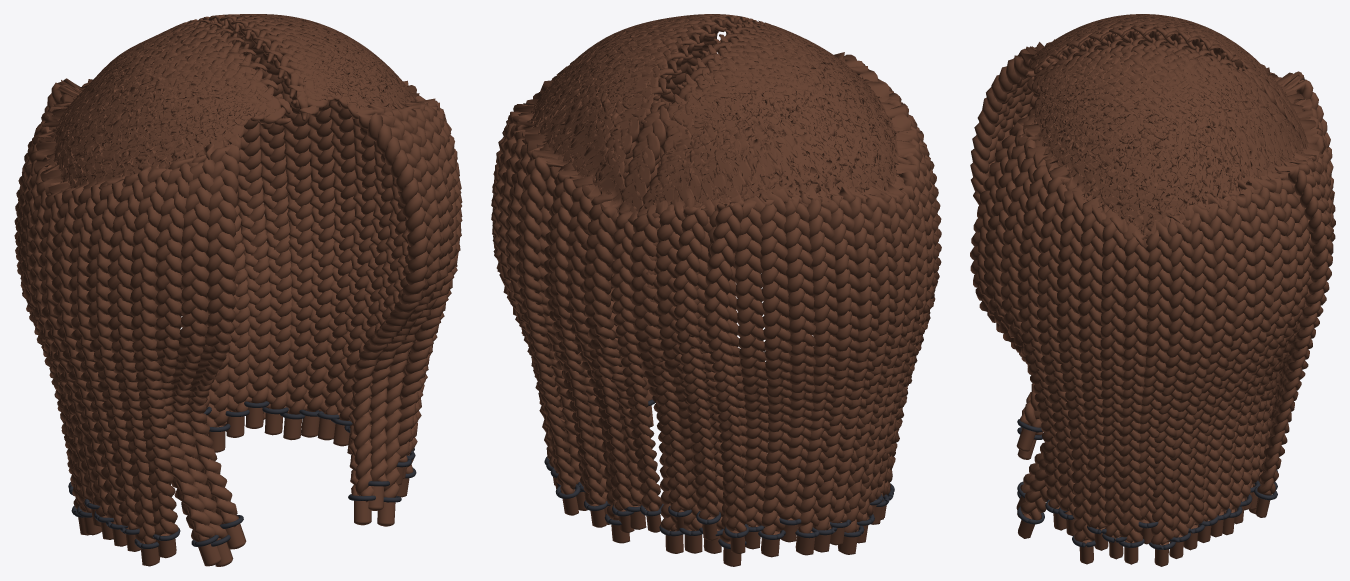
The model's file is Feminine-box-braids-headband260-hair.glb.
3 views of the same model, side by side, from view 1: azimuth 30°, elevation 25°; view 2: azimuth 150°, elevation 25°; view 3: azimuth 270°, elevation 25° (orthographic). The views are drawn at different scales.
Visible parts, largest first — view 1: 226 hair / Hair / chestnut226.001, 226 hair / Hair / ties226.001; view 2: 226 hair / Hair / chestnut226.001, 226 hair / Hair / ties226.001; view 3: 226 hair / Hair / chestnut226.001, 226 hair / Hair / ties226.001.
Boxes of the visible parts, x1,y1,x2,y2 form: 226 hair / Hair / chestnut226.001: [14, 14, 462, 566]; 226 hair / Hair / ties226.001: [68, 401, 416, 548]; 226 hair / Hair / chestnut226.001: [491, 14, 941, 566]; 226 hair / Hair / ties226.001: [544, 399, 894, 549]; 226 hair / Hair / chestnut226.001: [970, 14, 1335, 566]; 226 hair / Hair / ties226.001: [1017, 419, 1277, 549].
Bounding box in the file's own units: 1.07 × 1.23 × 0.8719.
